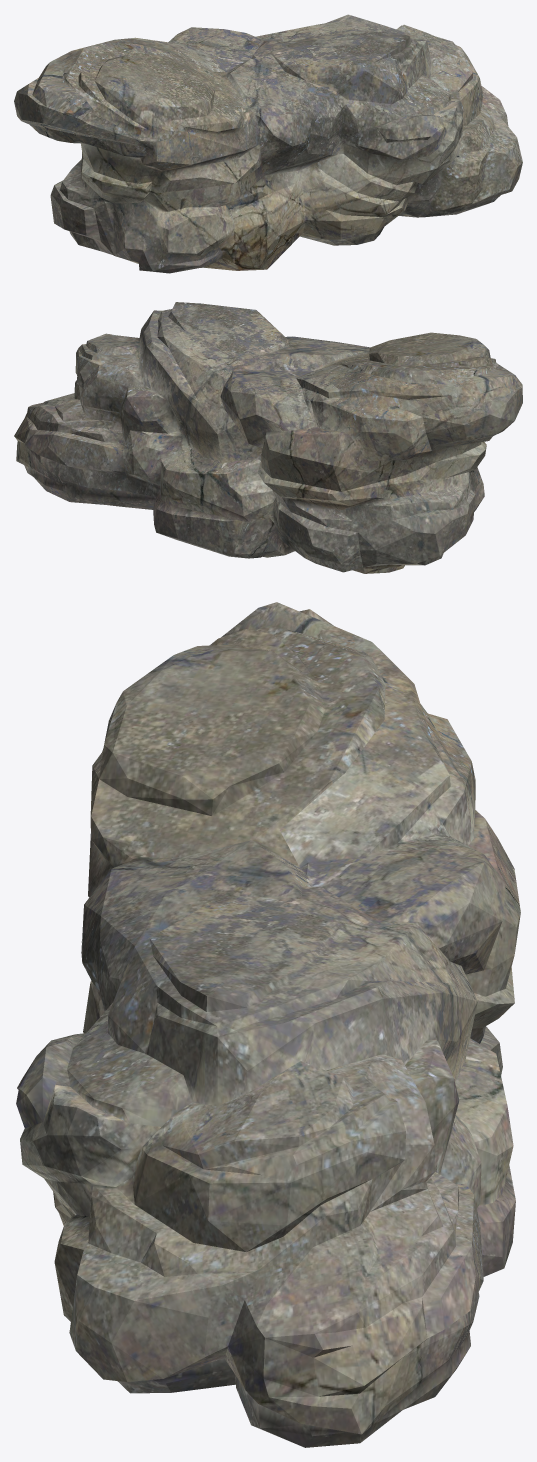
The model's file is bg_eud_stone_rock03_02_sm_old.FBX.
The picture shows the model from 3 angles, top to bottom: view 1: azimuth 30°, elevation 25°; view 2: azimuth 150°, elevation 25°; view 3: azimuth 270°, elevation 25°; orthographic projection. The views are drawn at different scales.
Visible parts, largest first — view 1: bg_eud_stone_rock03_02_sm_old; view 2: bg_eud_stone_rock03_02_sm_old; view 3: bg_eud_stone_rock03_02_sm_old.
Part boxes in pixels (left/top/right/bottom): bg_eud_stone_rock03_02_sm_old: left=14, top=14, right=522, bottom=273; bg_eud_stone_rock03_02_sm_old: left=14, top=302, right=522, bottom=573; bg_eud_stone_rock03_02_sm_old: left=16, top=602, right=520, bottom=1447.
Size of the model in its own units: 886 by 378 by 398.
